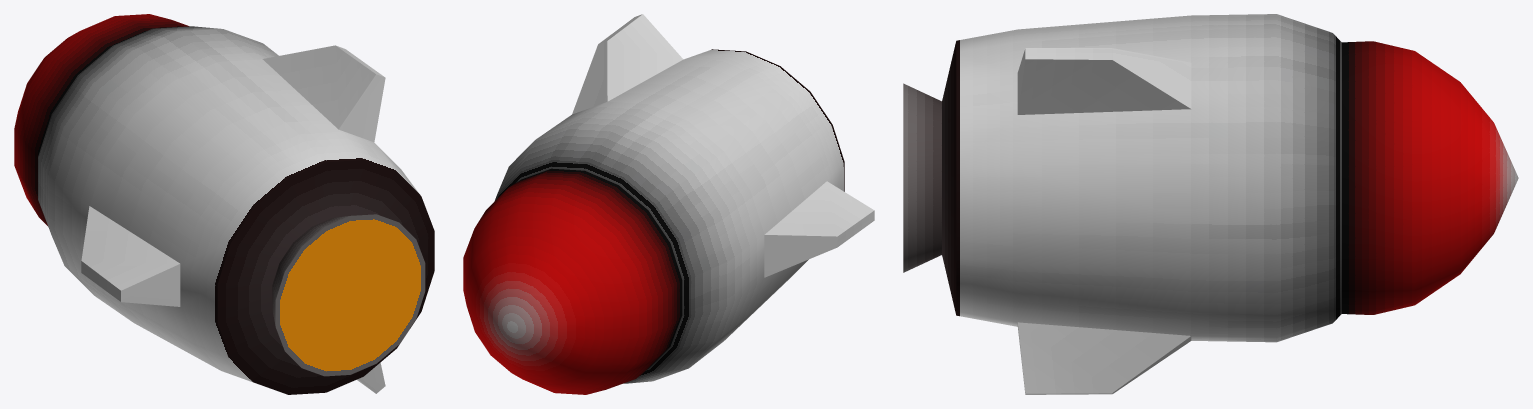
File: rocket.fbx
The picture shows the model from 3 angles, left to right: view 1: azimuth 30°, elevation 25°; view 2: azimuth 150°, elevation 25°; view 3: azimuth 270°, elevation 25°; orthographic projection. The views are drawn at different scales.
Parts seen in each view (by area): view 1: pCylinder1; view 2: pCylinder1; view 3: pCylinder1.
Part boxes in pixels (box(x1,y1,x2,y2)): pCylinder1: box(14, 14, 434, 394); pCylinder1: box(463, 14, 874, 394); pCylinder1: box(903, 14, 1518, 394).
Bounding box in the file's own units: 0.0905 × 0.0913 × 0.1468.
1 material, 1 textured.
